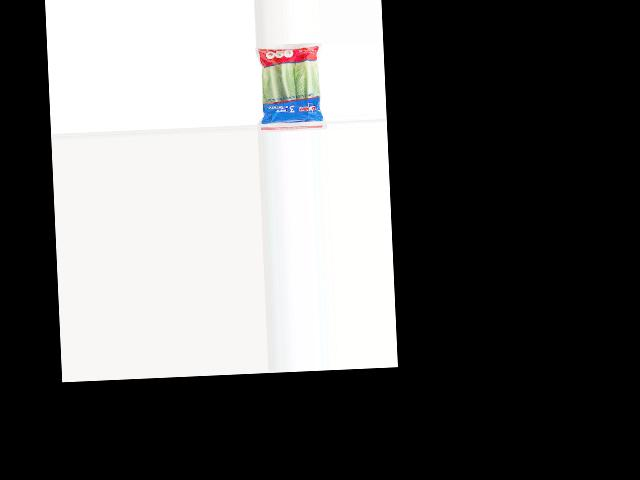lettuce: (257, 42, 326, 127)
